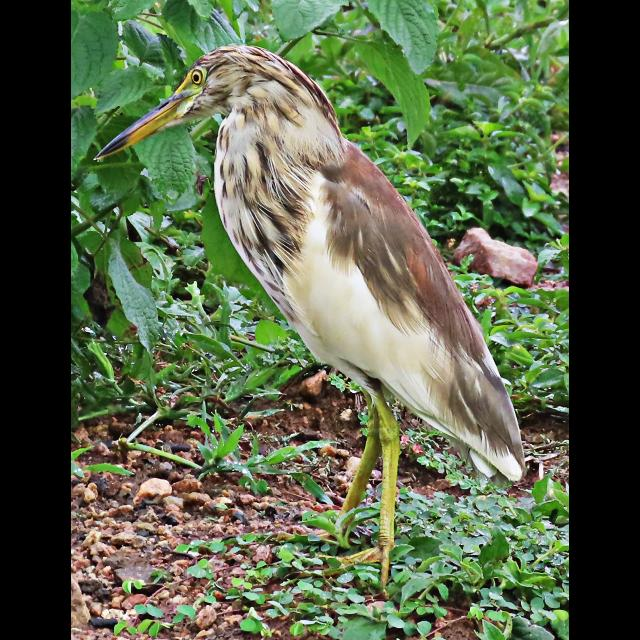heron: (101, 48, 528, 564)
